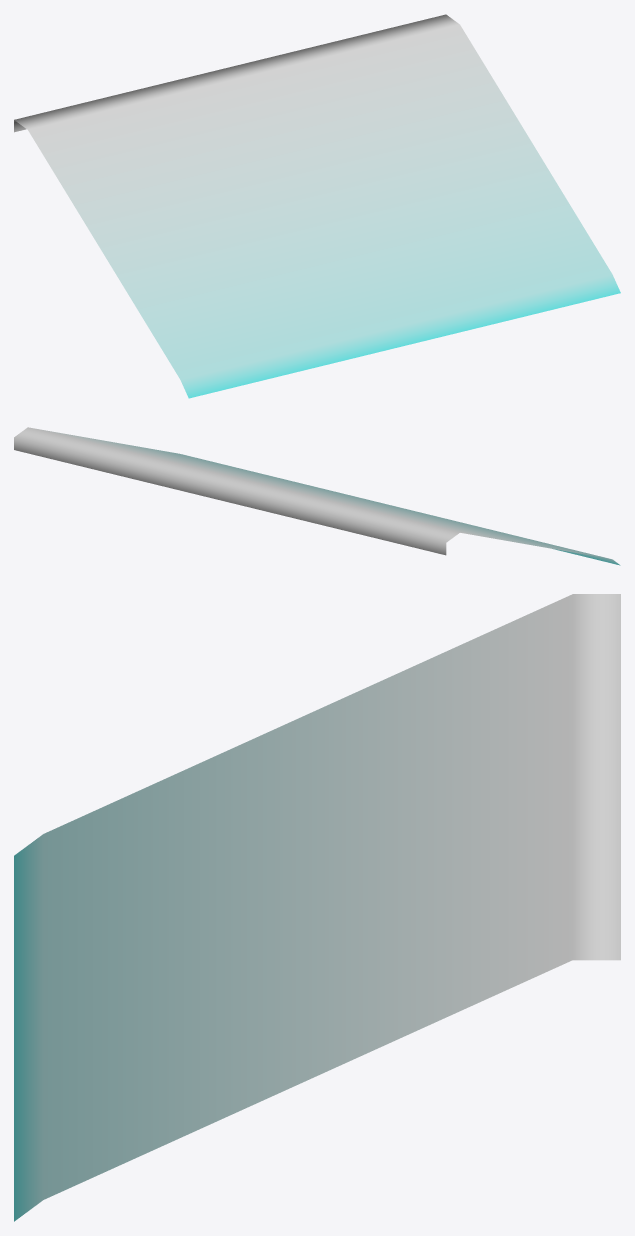
Rendered from SM_SmoothStairs6mCOL.fbx.
3 views of the same model, one above another, from view 1: azimuth 30°, elevation 25°; view 2: azimuth 150°, elevation 25°; view 3: azimuth 270°, elevation 25° (orthographic). The views are drawn at different scales.
Visible parts, largest first — view 1: SM_SmoothStairs6mCOL; view 2: SM_SmoothStairs6mCOL; view 3: SM_SmoothStairs6mCOL.
Boxes of the visible parts, x1,y1,x2,y2 form: SM_SmoothStairs6mCOL: (14,14,620,398); SM_SmoothStairs6mCOL: (14,427,620,565); SM_SmoothStairs6mCOL: (14,594,620,1221).
Bounding box in the file's own units: 600 × 200 × 420.
